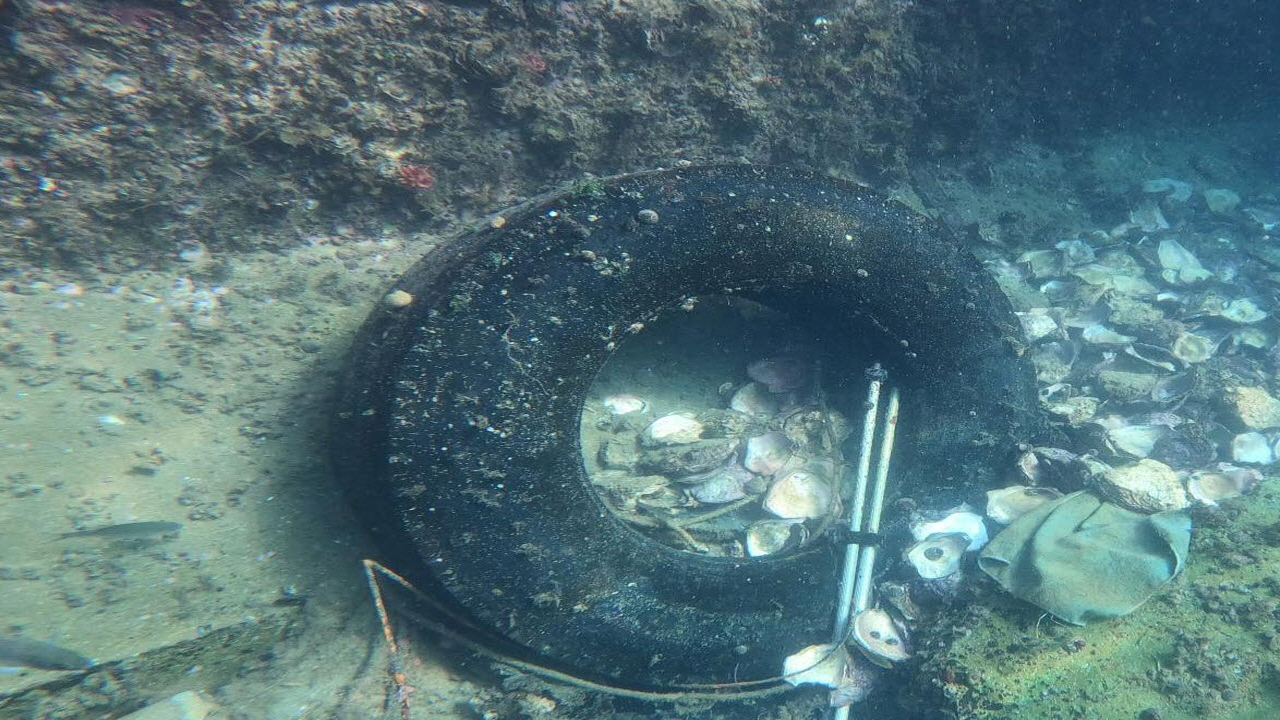tire: (328, 159, 1041, 688)
